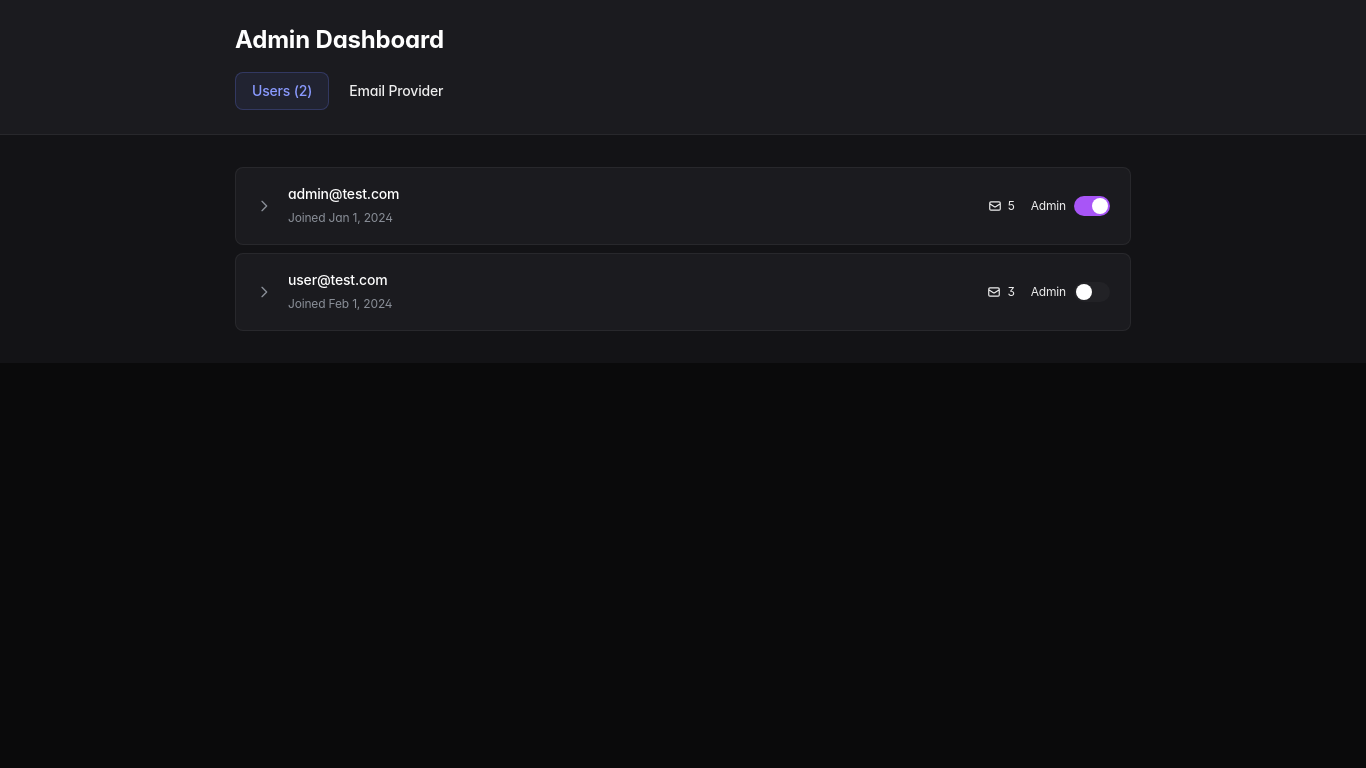
Admin › shows empty activity message in expanded panel
Click to expand
Step 1. Click the text "admin@test.com" → (344,194), box top-left (288, 185), bottom-right (399, 202)
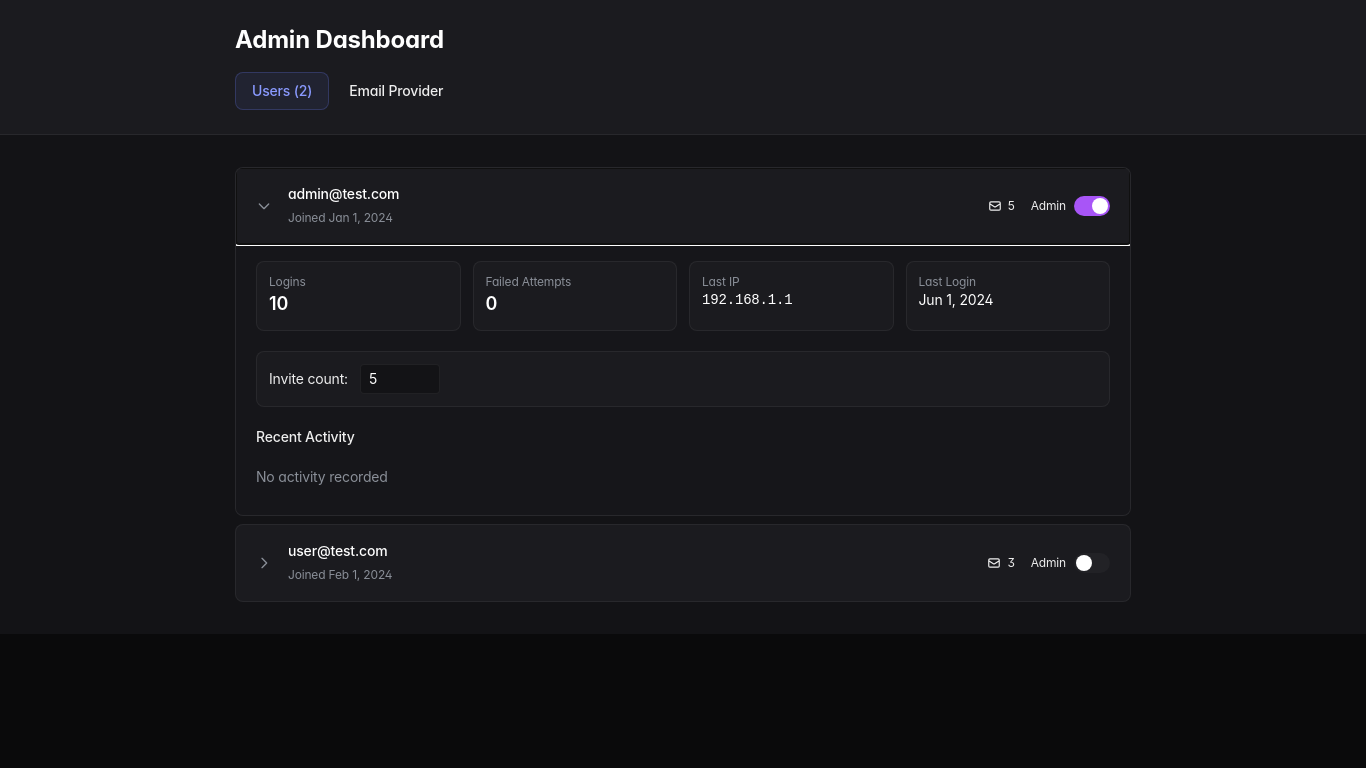
Result: the text "No activity recorded" is shown at top-left (256, 468), bottom-right (388, 485)
